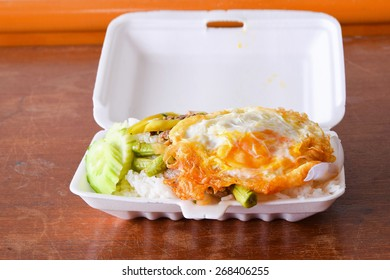Foam Box: (66, 6, 350, 228)
